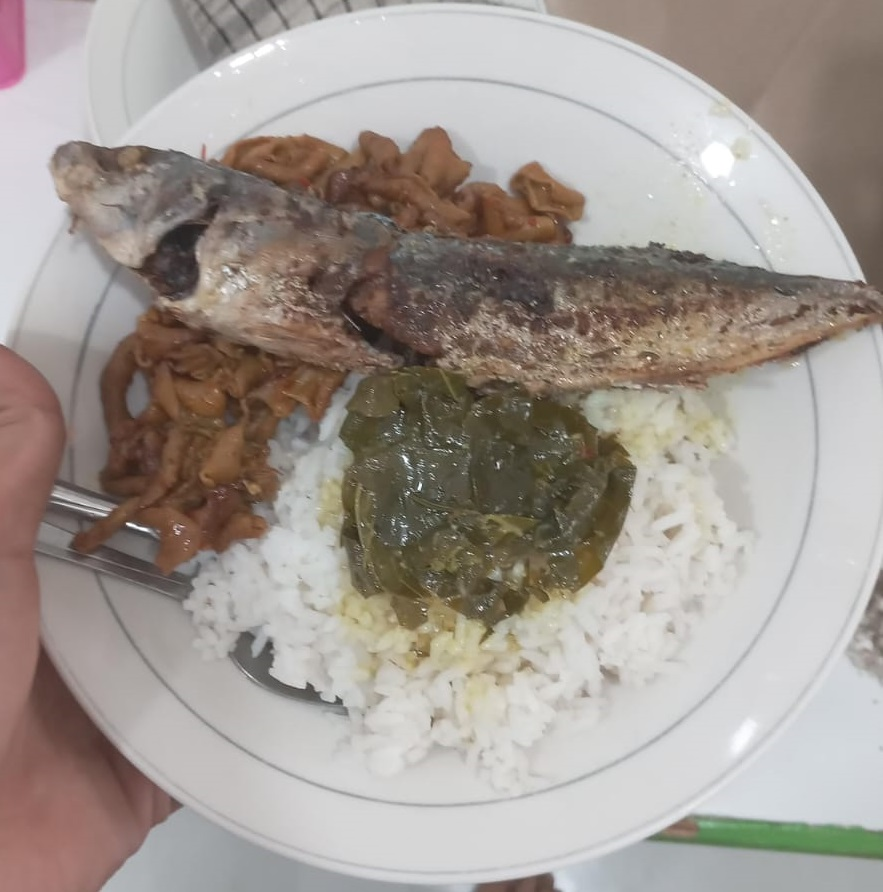Ikan_kembung: (48, 140, 879, 376)
Nasi: (190, 617, 690, 777)
Sayur_daun_singkong: (353, 383, 619, 605)
Usus: (92, 379, 275, 542)
